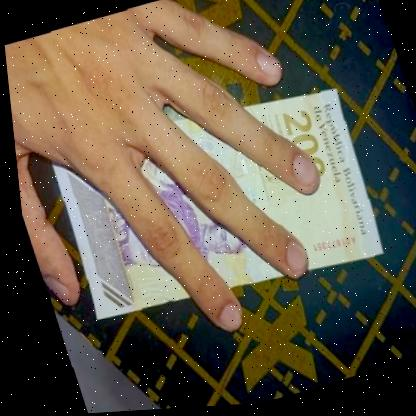two_hundred-front-vef: (35, 77, 388, 335)
